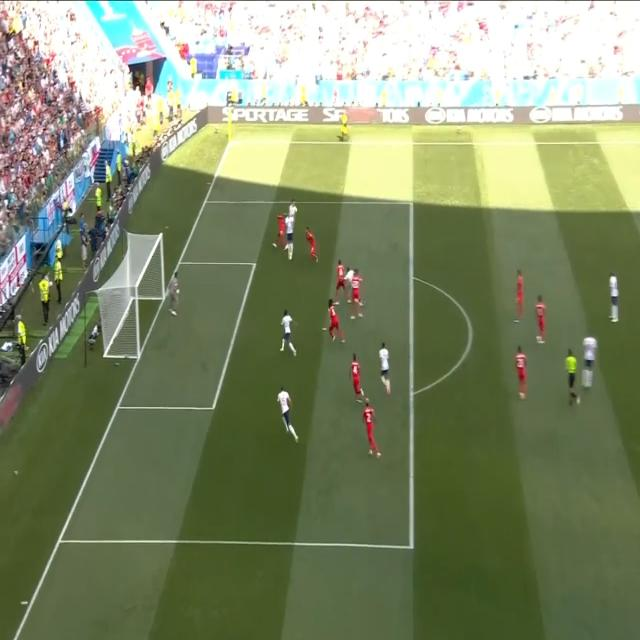ball: (271, 235, 277, 253)
player: (276, 377, 301, 449), (362, 396, 384, 462), (278, 305, 299, 363), (580, 327, 598, 392), (324, 295, 346, 348), (377, 334, 394, 396), (514, 343, 530, 404), (606, 264, 621, 326), (350, 347, 364, 405), (512, 266, 526, 324), (534, 293, 548, 348), (304, 223, 320, 266), (352, 272, 363, 324), (332, 254, 344, 293), (276, 206, 286, 243), (346, 262, 354, 308), (286, 217, 294, 260), (288, 197, 298, 221)
